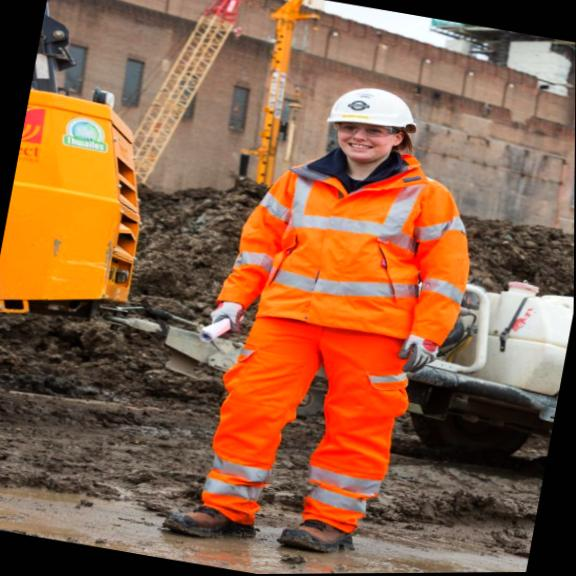safety_vest: (217, 141, 481, 393)
